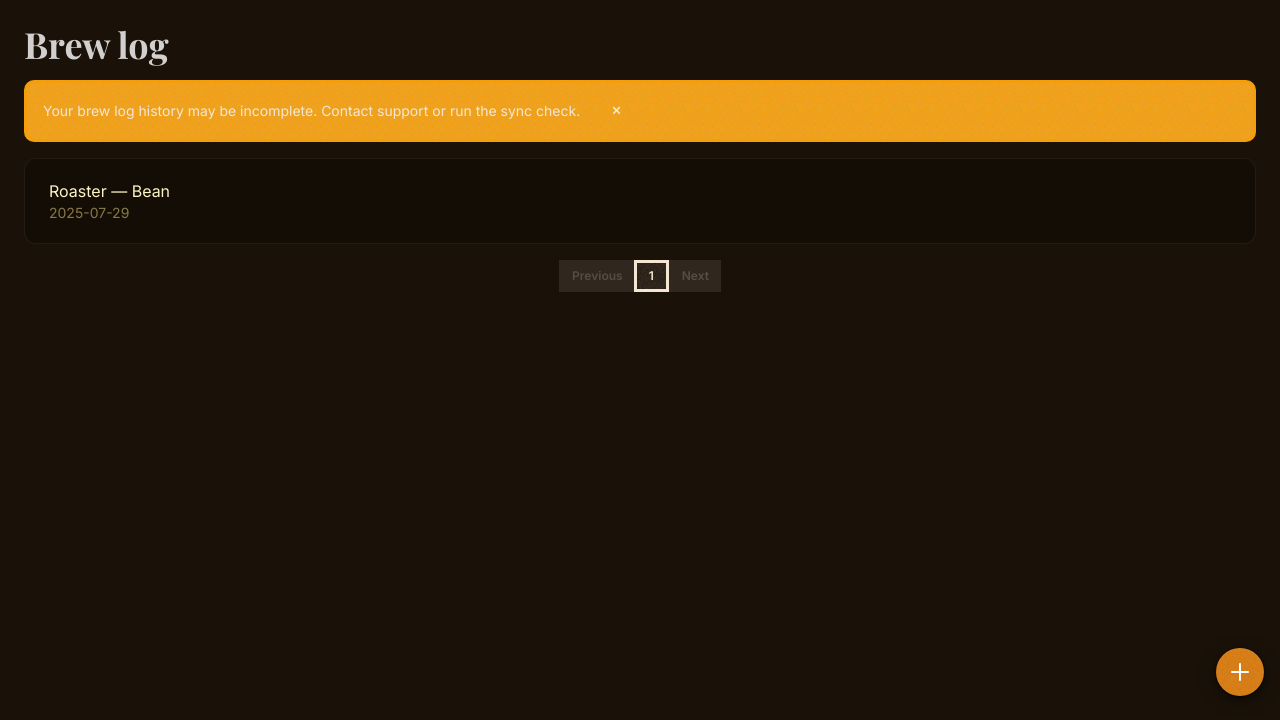
Test case: BrewLogList — sync-gap alert banner › alert banner is dismissible
Check: the message is shown, box [24, 80, 1256, 142]
Click the button "✕". click: (616, 111)
box: [596, 95, 636, 127]
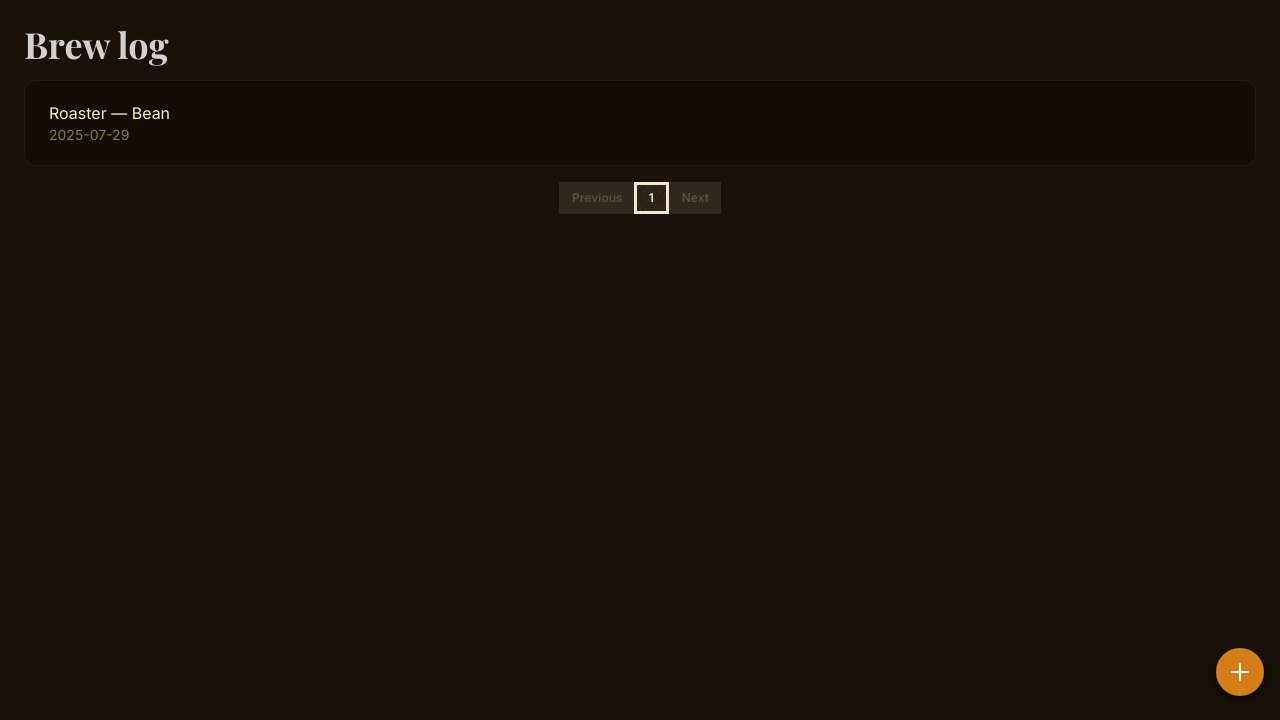
Check: the message "Your brew log history may be incomplete. Contact support or run the sync check." is gone
